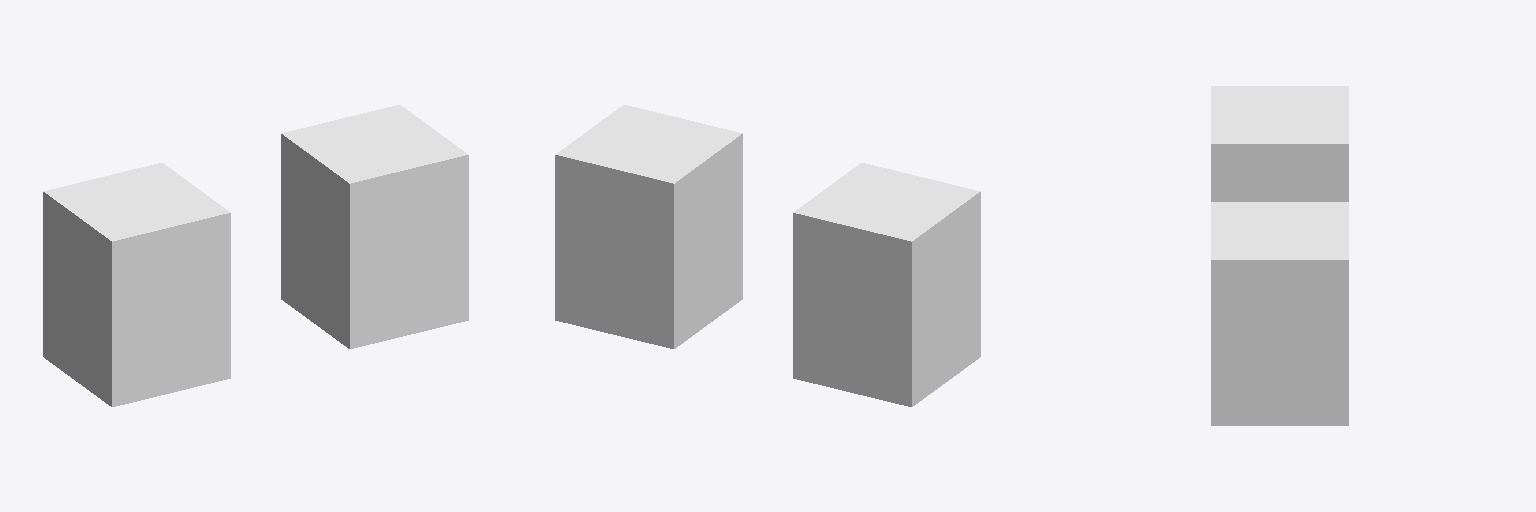
The model's file is ushi_maeAshi.obj.
3 renders of one model, left to right at view 1: azimuth 30°, elevation 25°; view 2: azimuth 150°, elevation 25°; view 3: azimuth 270°, elevation 25°, orthographic.
Parts seen in each view (by area): view 1: object 1; view 2: object 1; view 3: object 1.
Boxes of the visible parts, x1=… form: object 1: x1=43, y1=105, x2=468, y2=406; object 1: x1=555, y1=105, x2=980, y2=406; object 1: x1=1211, y1=86, x2=1348, y2=425.
Bounding box in the file's own units: 3.6 × 1.6 × 1.2.